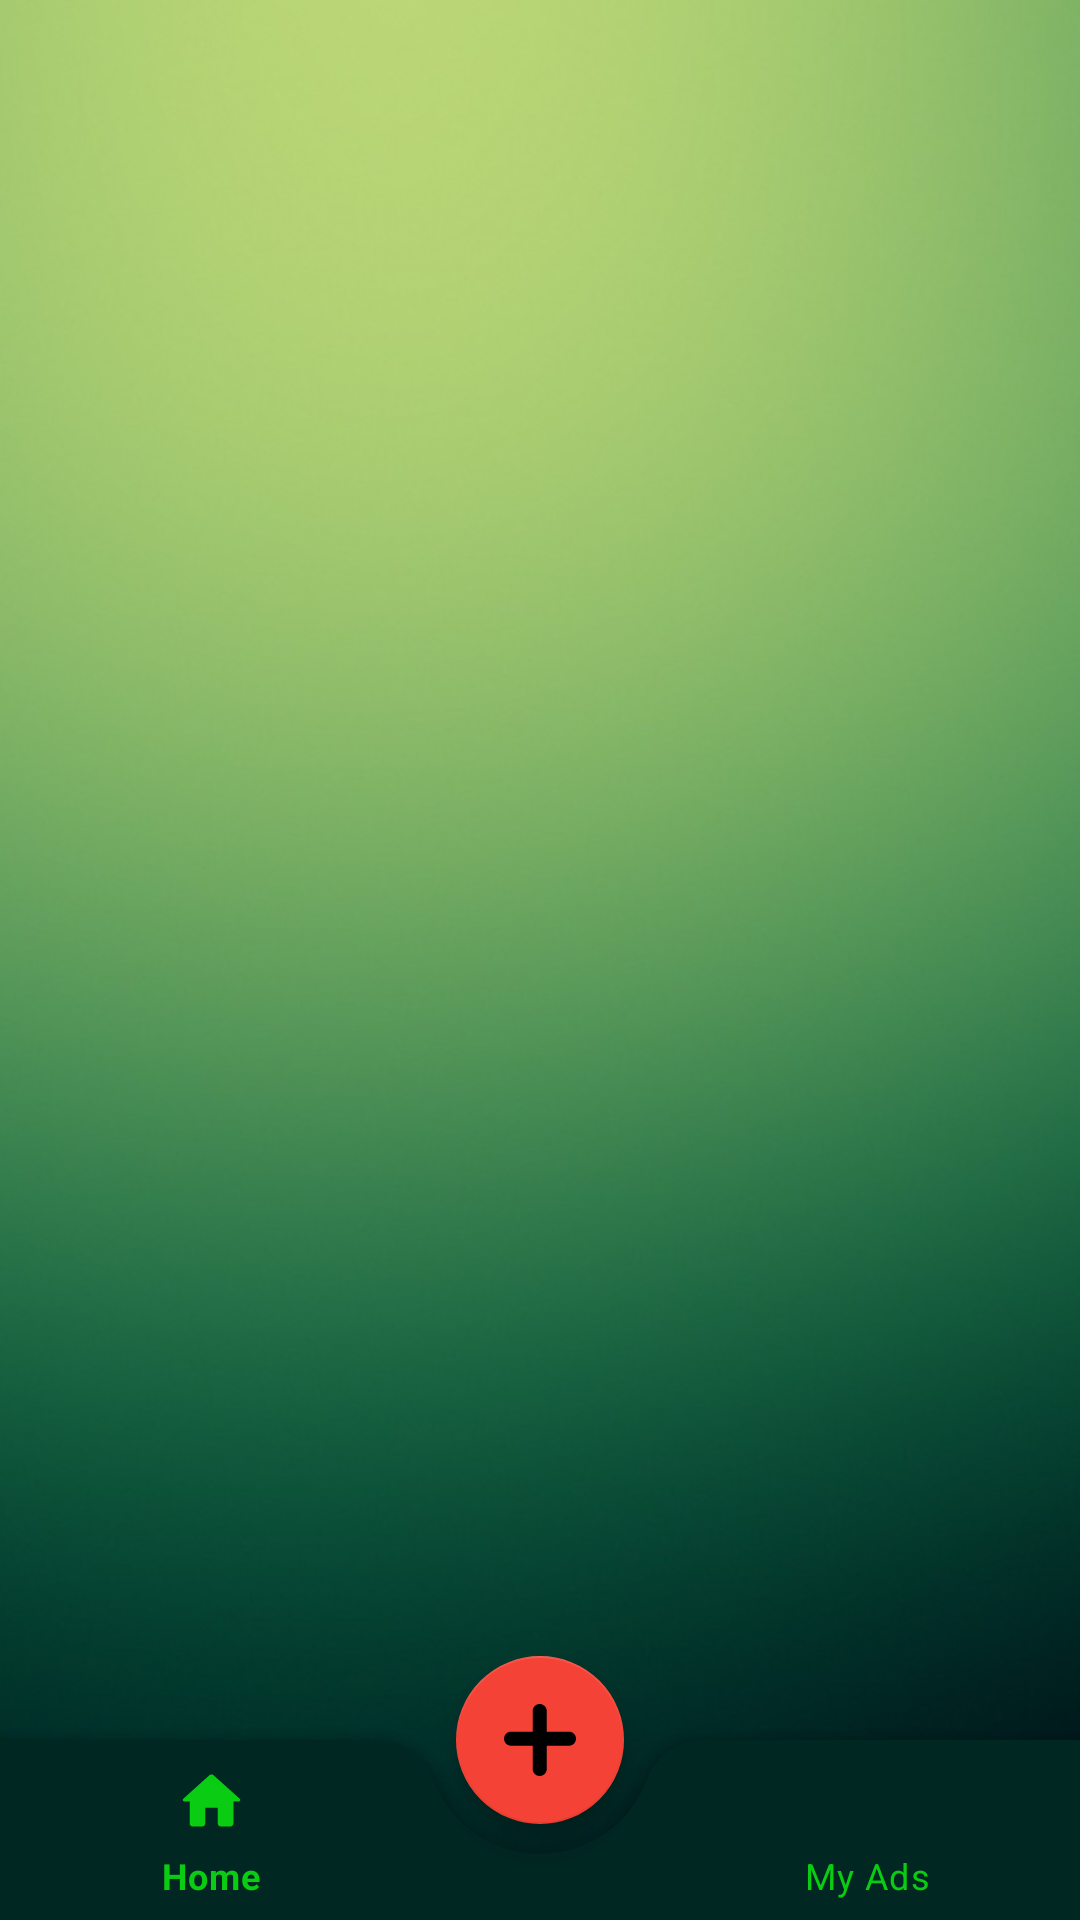

Point at icon controls on the screen. Image size 1080x1920, points as [x,y].
add: [540,1740]
